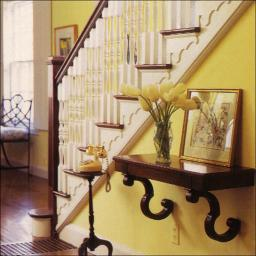Escaleras: (28, 1, 230, 237)
